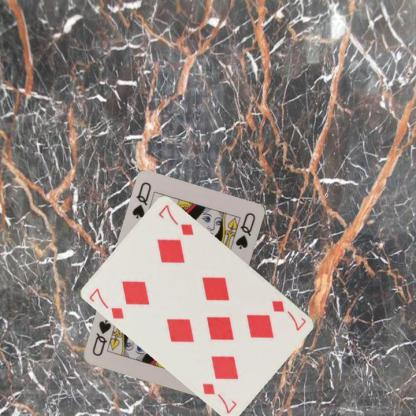7d: (269, 298, 308, 332), (87, 286, 126, 320)
Qs: (130, 180, 152, 220)
